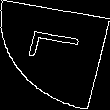L_E: (22, 35, 88, 75)
